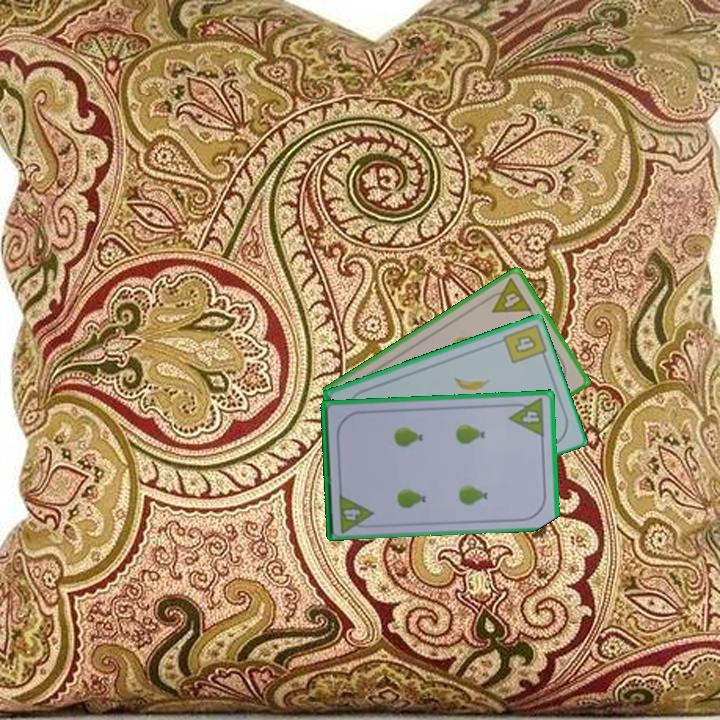4b: (511, 331, 540, 356)
4p: (482, 274, 535, 316), (505, 395, 547, 439), (335, 490, 376, 534)
